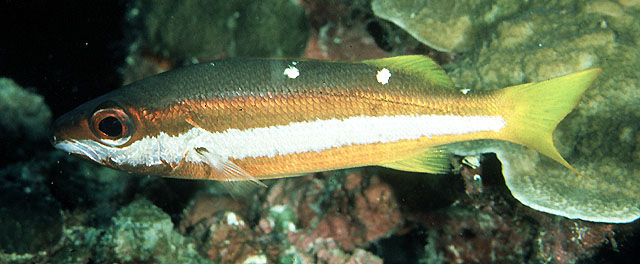fish: (52, 55, 603, 183)
